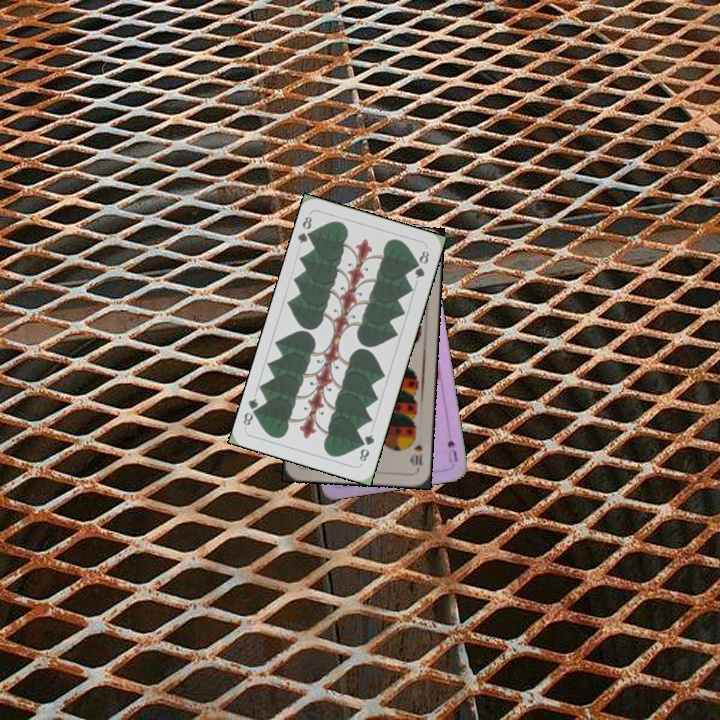G8: (294, 212, 317, 246), (355, 430, 377, 464)
S10: (407, 440, 426, 468)
SU: (443, 436, 460, 465)
